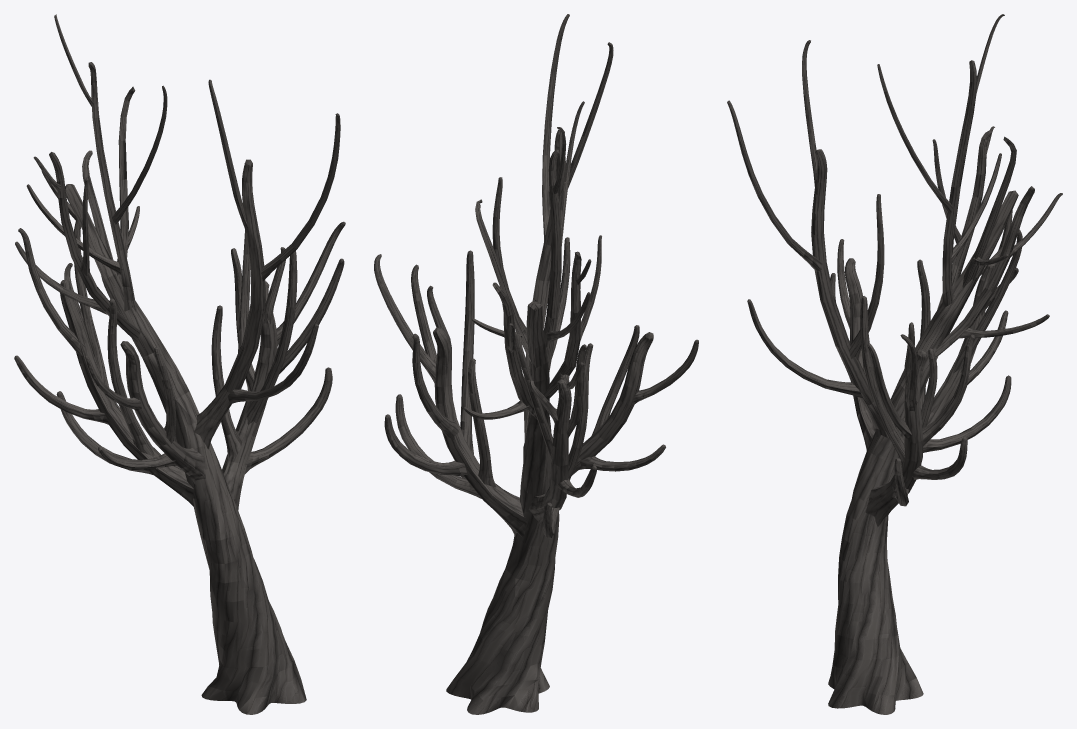
Rendered from torcida-seca-reprovada.glb.
3 renders of one model, left to right at view 1: azimuth 30°, elevation 25°; view 2: azimuth 150°, elevation 25°; view 3: azimuth 270°, elevation 25°, orthographic. The views are drawn at different scales.
Bounding box in the file's own units: 8.3 × 17.76 × 8.72.
1 material, 1 textured.
